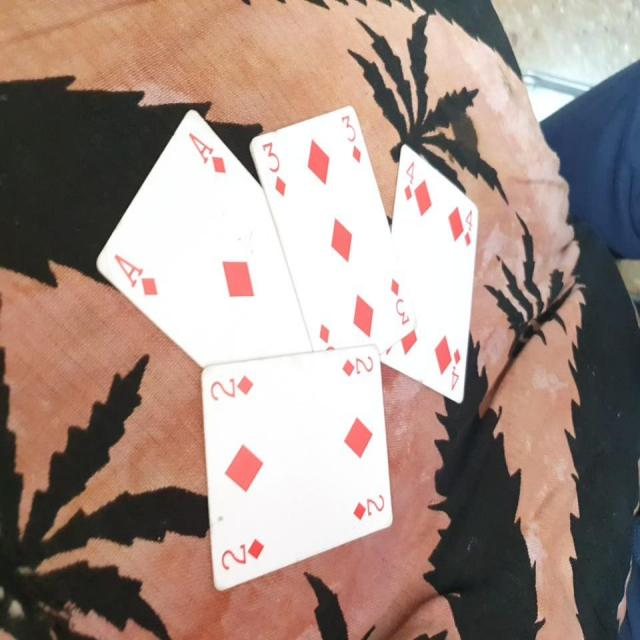2 Diamonds: (192, 346, 397, 596)
3 Diamonds: (247, 98, 418, 357)
4 Diamonds: (376, 140, 478, 412)
A Diamonds: (84, 96, 317, 389)
